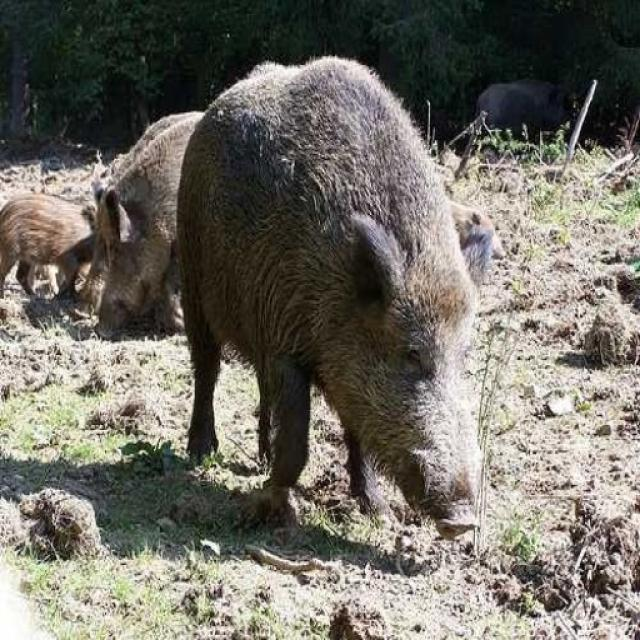pig: (187, 7, 517, 579)
